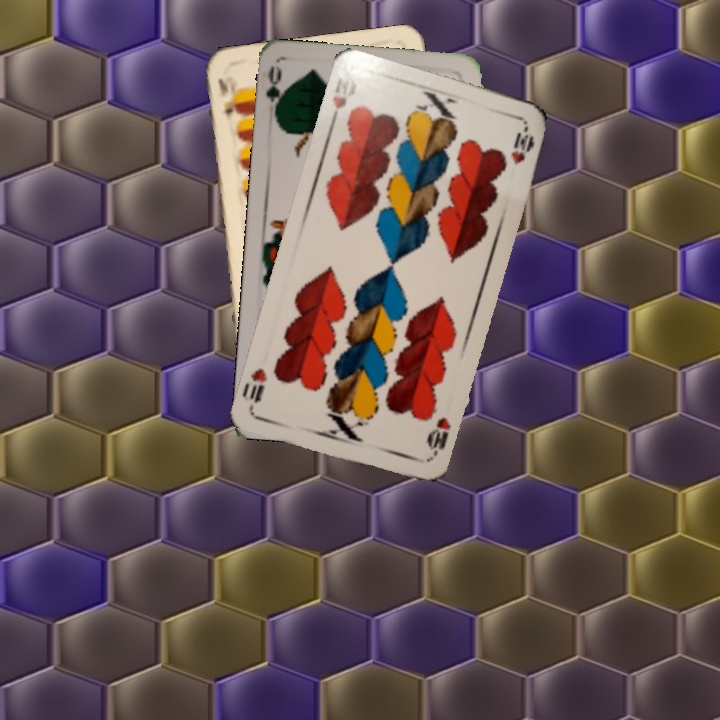E10: (214, 74, 236, 121)
GO: (262, 64, 290, 123)
H10: (326, 73, 359, 129), (422, 413, 453, 461)
